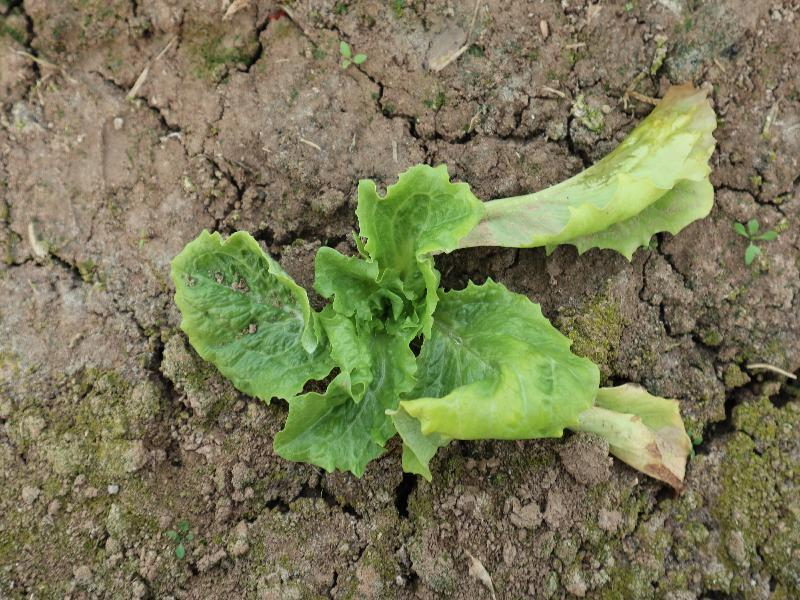lettuce: (168, 162, 693, 486)
